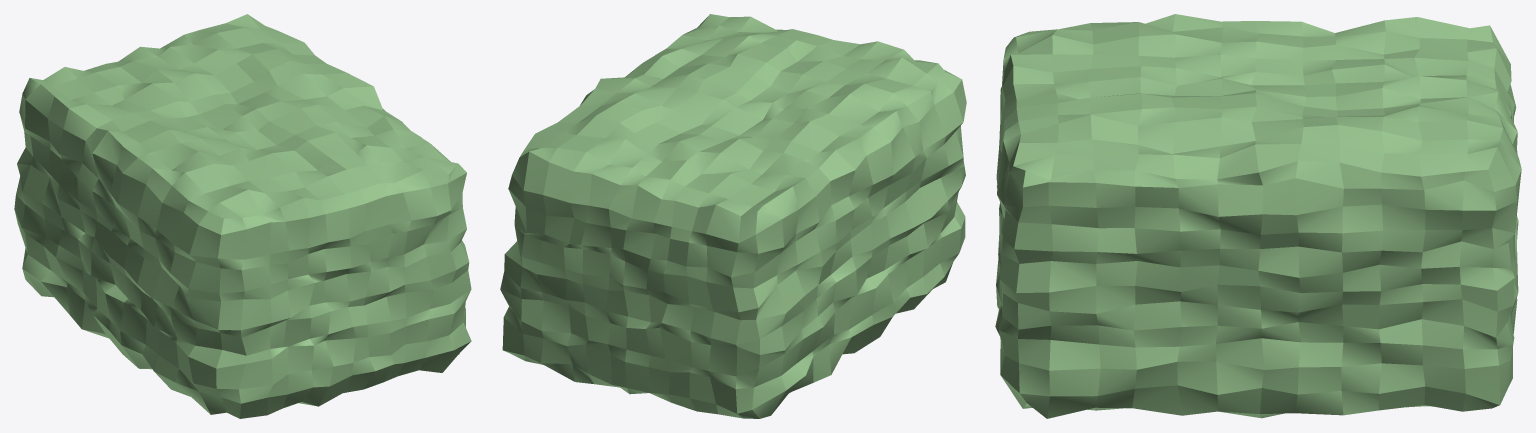
File: MidBush.fbx
3 views of the same model, side by side, from view 1: azimuth 30°, elevation 25°; view 2: azimuth 150°, elevation 25°; view 3: azimuth 270°, elevation 25° (orthographic). The views are drawn at different scales.
Parts seen in each view (by area): view 1: pCube4677; view 2: pCube4677; view 3: pCube4677.
Part boxes in pixels (<box>): pCube4677: <box>14,14,471,418</box>; pCube4677: <box>500,14,966,418</box>; pCube4677: <box>995,14,1521,418</box>.
Size of the model in its own units: 1.05 by 0.8269 by 1.4.
